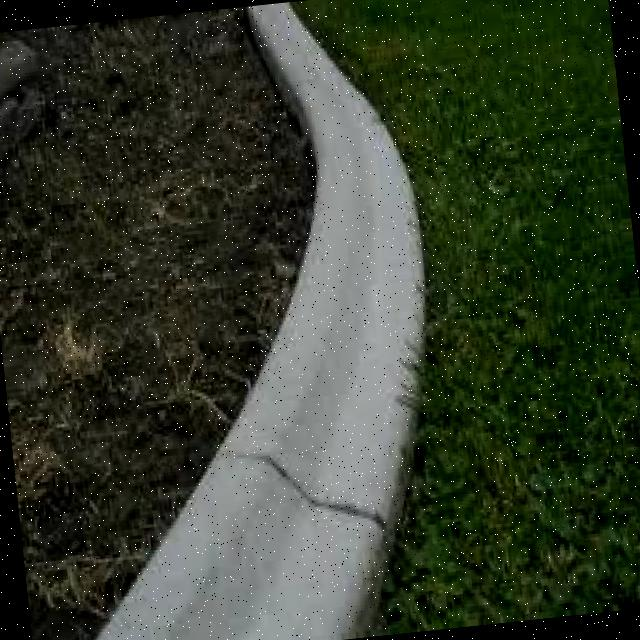curb: (51, 350, 464, 640), (240, 1, 448, 391)
